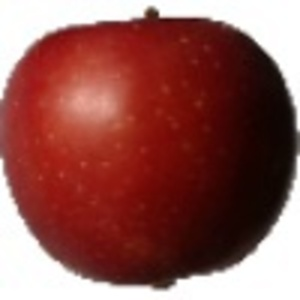maçã braeburn: (1, 8, 299, 288)
